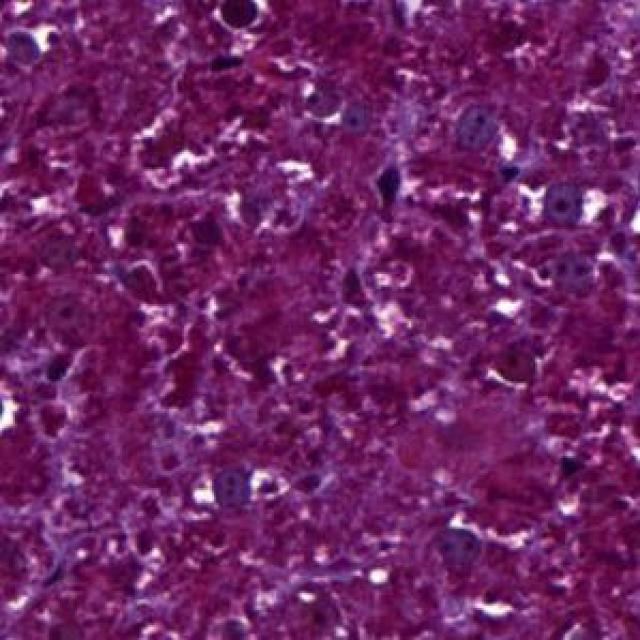inflammation: (516, 169, 614, 238), (178, 458, 295, 512), (428, 520, 490, 589), (206, 0, 280, 43)
